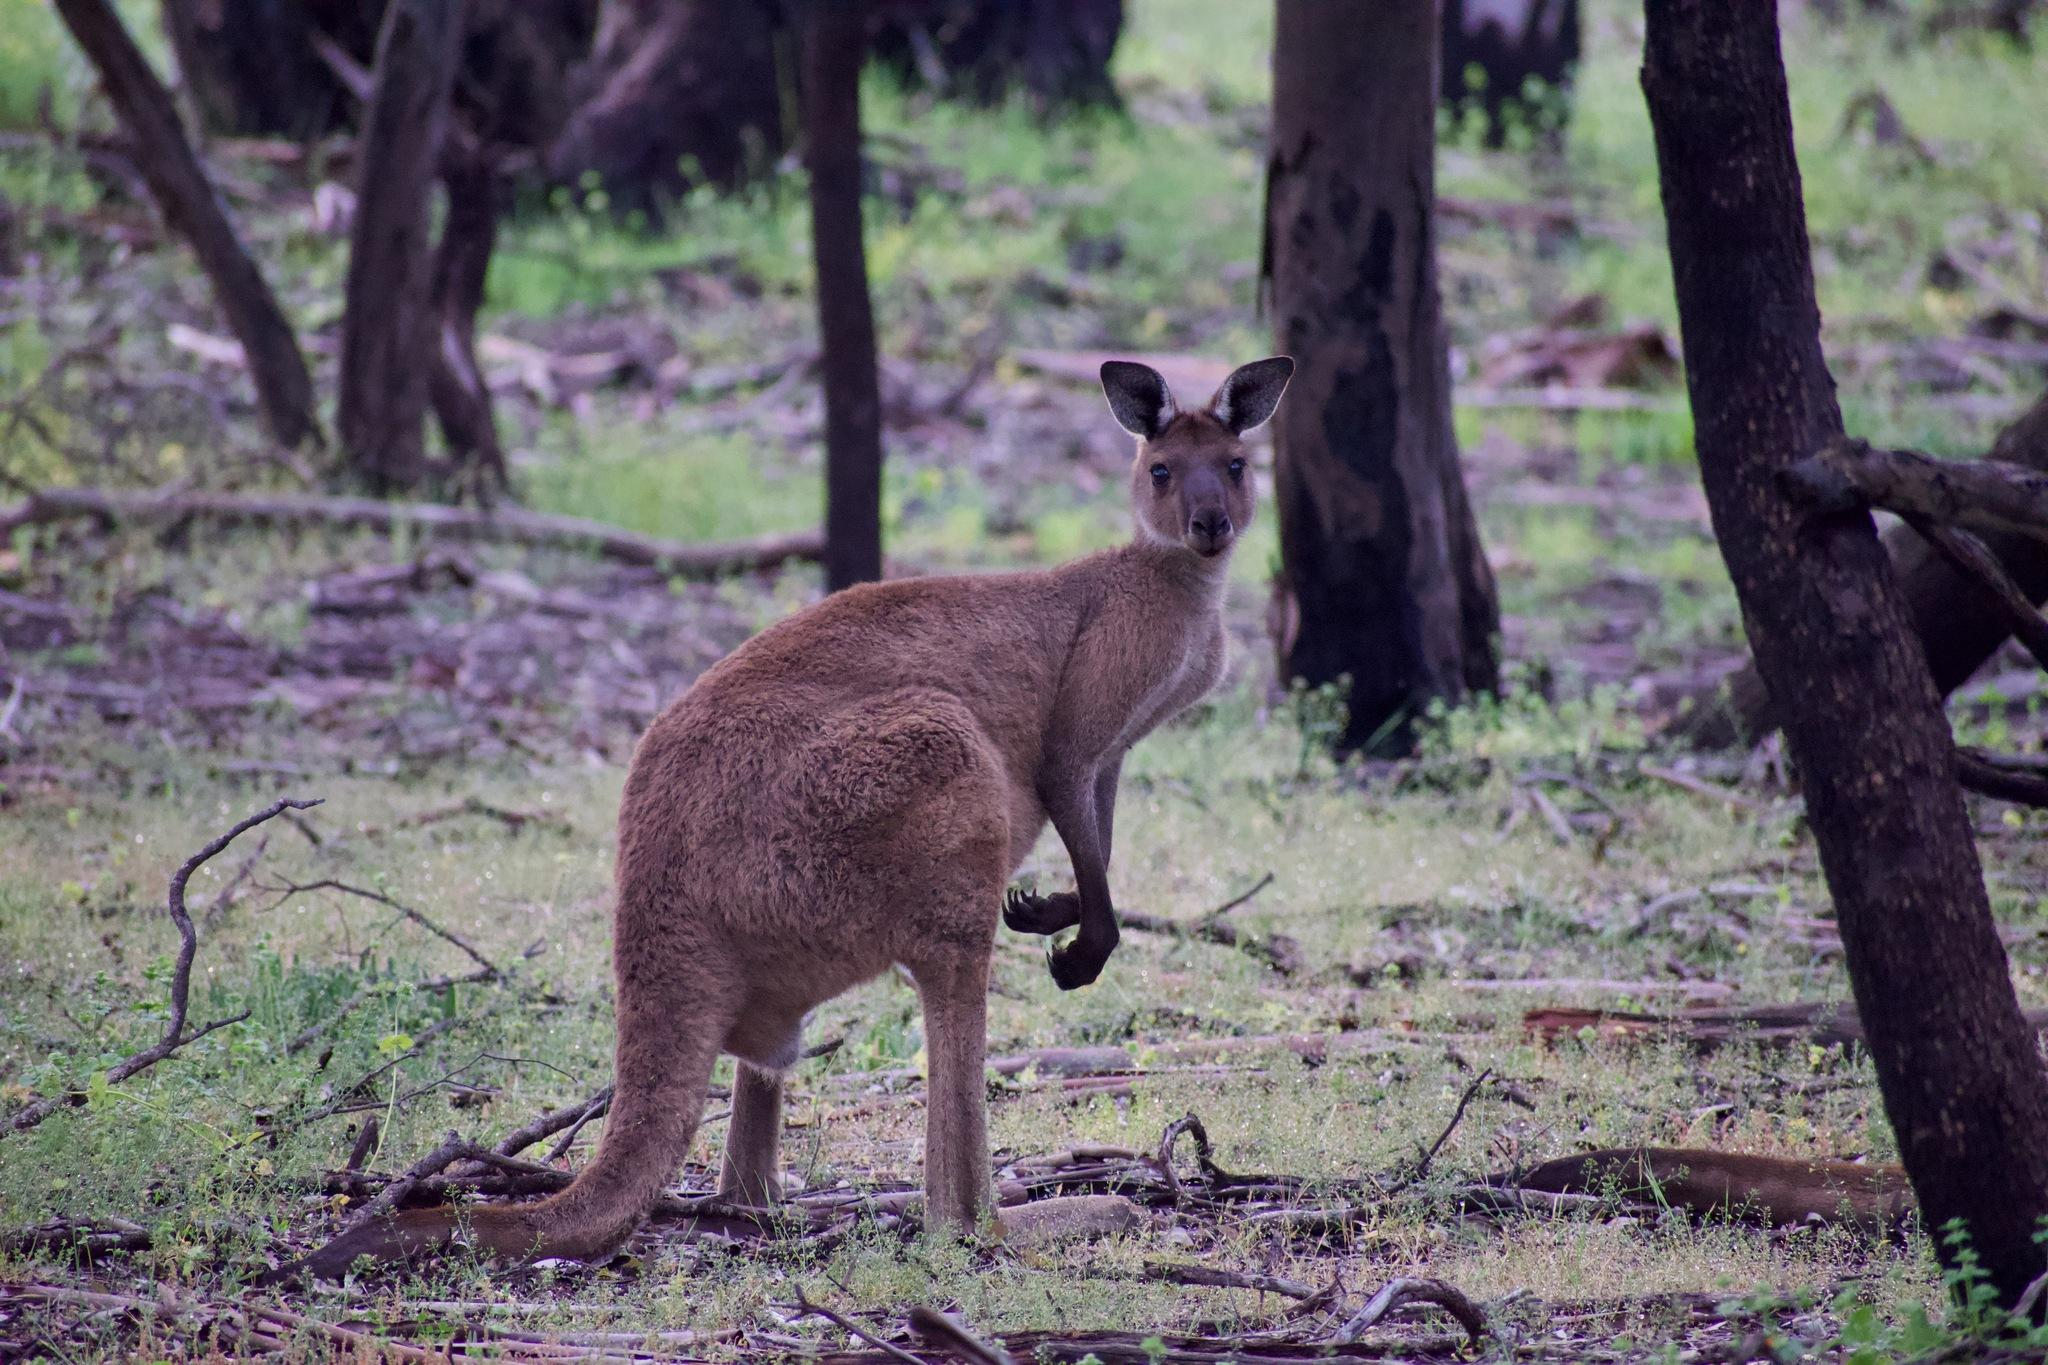Western grey kangaroo: (323, 350, 1294, 1272)
